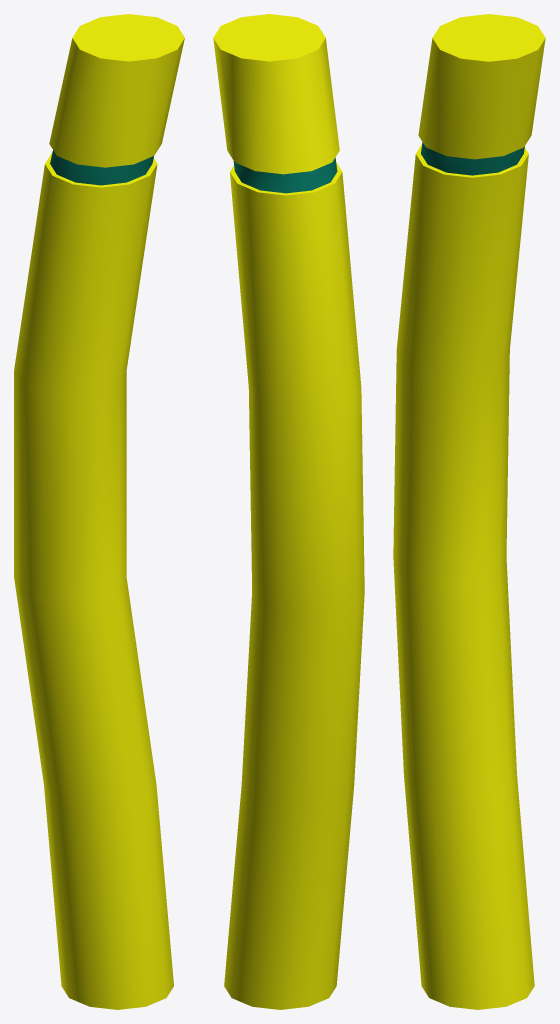
Rendered from SM_poteau_03.fbx.
3 views of the same model, side by side, from view 1: azimuth 30°, elevation 25°; view 2: azimuth 150°, elevation 25°; view 3: azimuth 330°, elevation 25° (orthographic).
Parts seen in each view (by area): view 1: SM_poteau_03; view 2: SM_poteau_03; view 3: SM_poteau_03.
Part boxes in pixels (left/top/right/bottom): SM_poteau_03: left=14, top=14, right=184, bottom=1009; SM_poteau_03: left=213, top=14, right=364, bottom=1009; SM_poteau_03: left=393, top=14, right=545, bottom=1009.
Bounding box in the file's own units: 0.1045 × 0.6465 × 0.0839.
